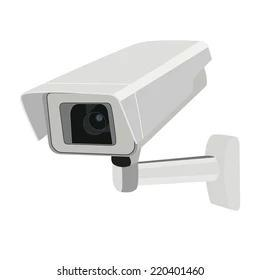------------------------------: (20, 37, 214, 158)
